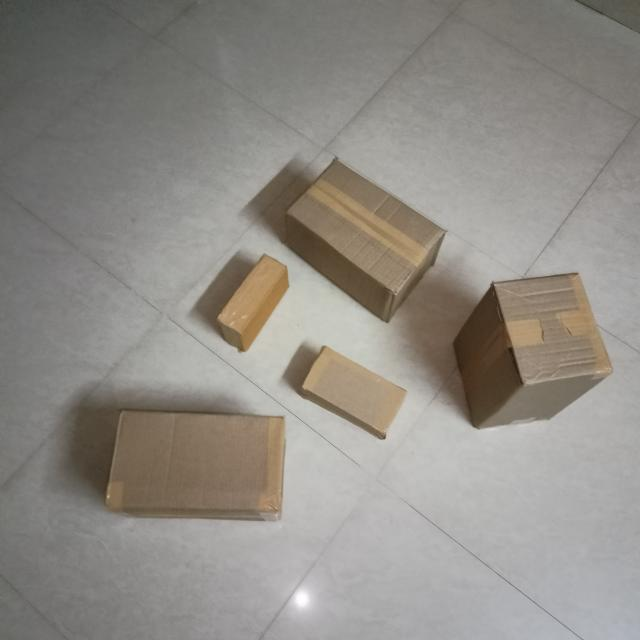box: (294, 160, 446, 296), (105, 413, 286, 514), (495, 277, 612, 382), (302, 346, 413, 435), (222, 253, 288, 331)
